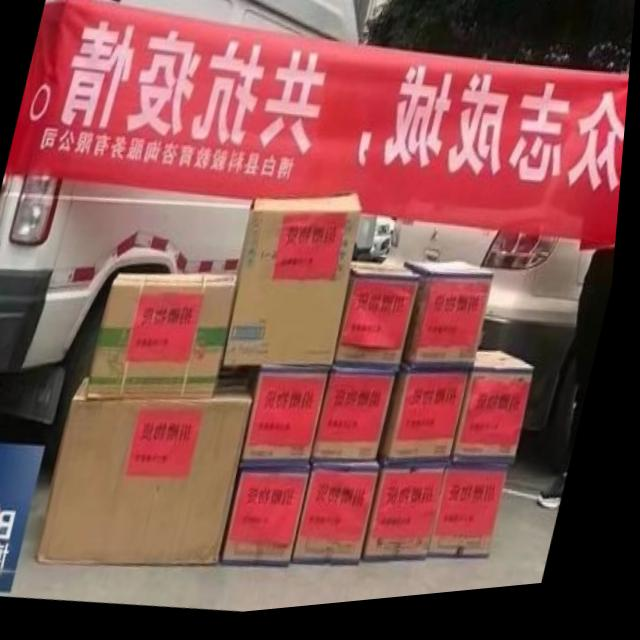box: (46, 378, 260, 568), (228, 199, 365, 376), (92, 277, 243, 402), (408, 268, 499, 383), (458, 361, 540, 478), (338, 269, 424, 378), (300, 469, 388, 573), (388, 377, 476, 478), (228, 474, 317, 572), (248, 376, 335, 475), (371, 475, 454, 569), (318, 380, 401, 468), (440, 474, 515, 566)
